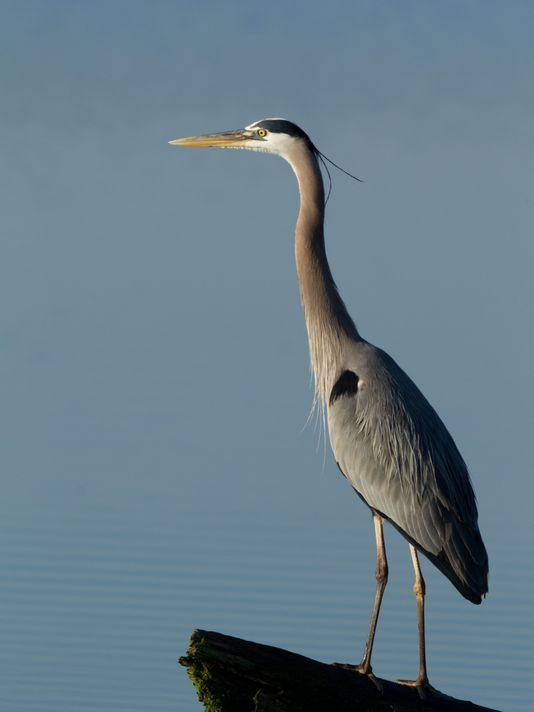heron: (167, 115, 493, 696)
